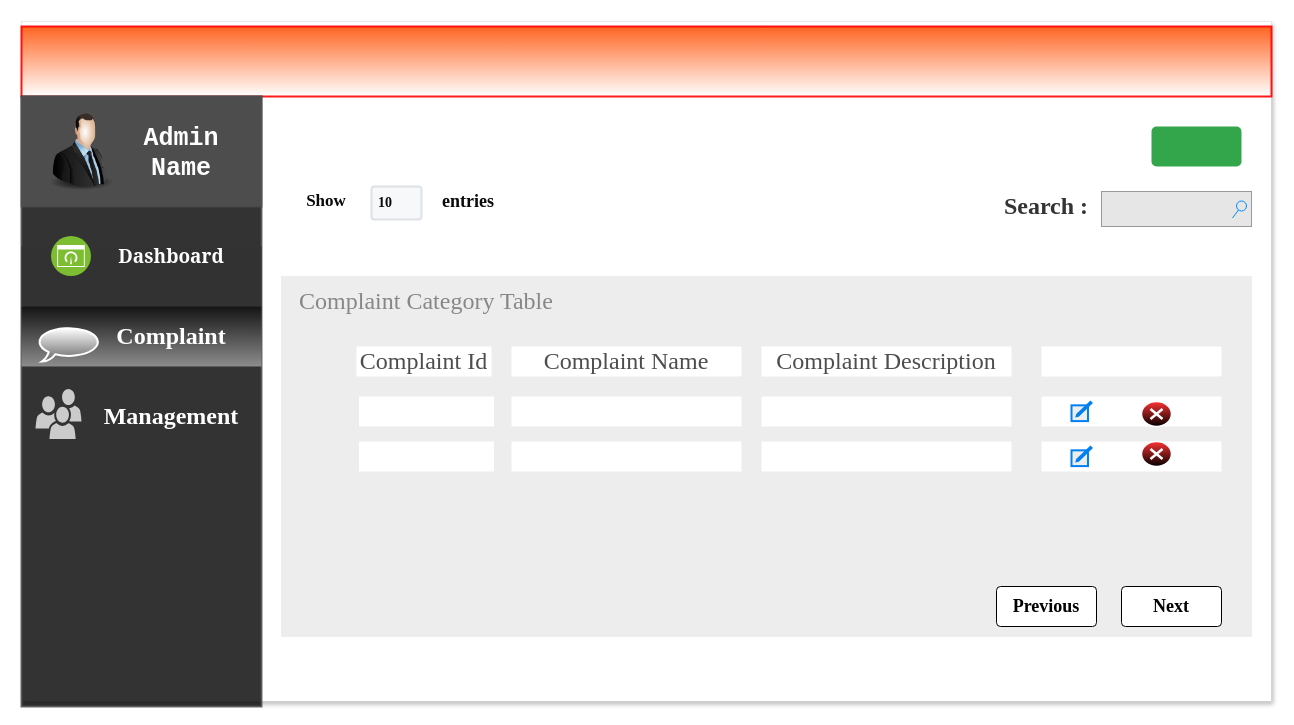
This 1294x725 diagram has some shape labels left out. The centre of each missing label's shape, as x and y in pixels:
"ADD +" goes at pixel 1196 146.
"COMPLAINT SYSTEM" goes at pixel 646 61.
"Search" goes at pixel 1176 208.
